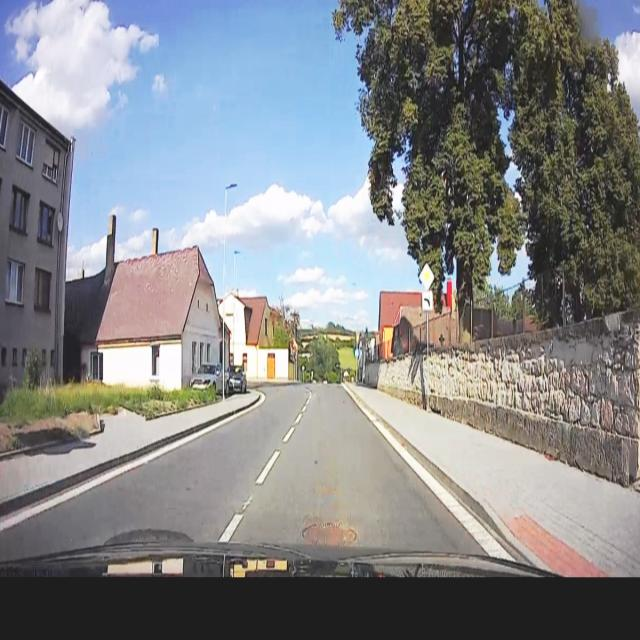Priority road: (419, 263, 436, 290)
